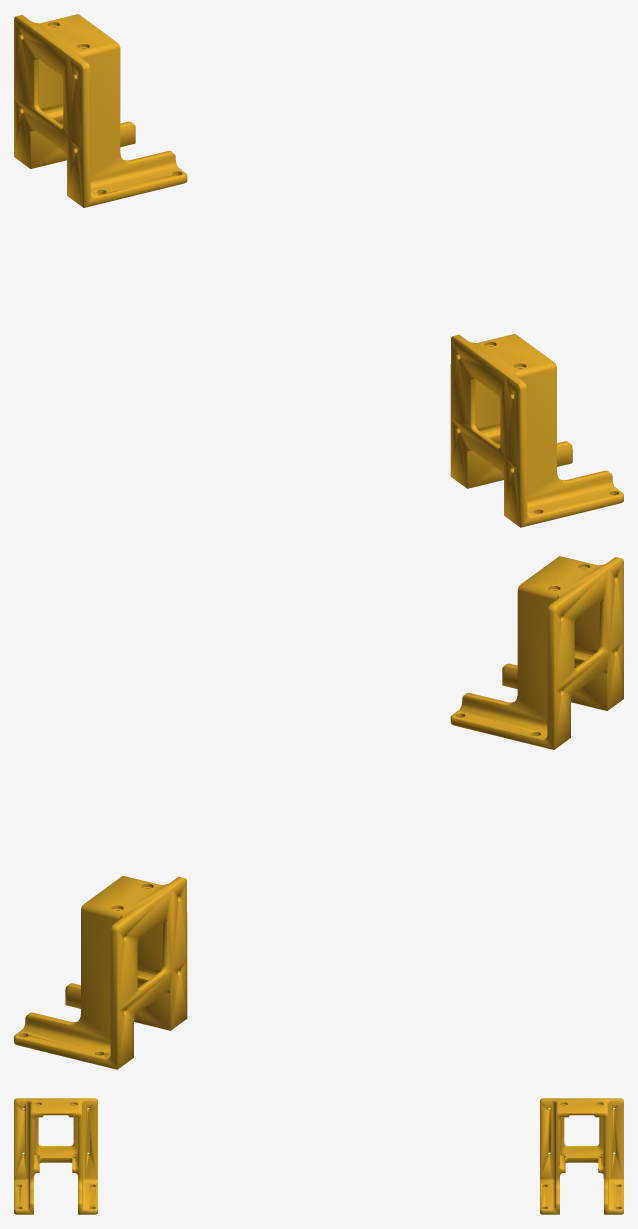
The model's file is lift_carriage_arm.dae.
3 renders of one model, top to bottom at view 1: azimuth 30°, elevation 25°; view 2: azimuth 150°, elevation 25°; view 3: azimuth 270°, elevation 25°, orthographic. The views are drawn at different scales.
Parts seen in each view (by area): view 1: node; view 2: node; view 3: node.
Part boxes in pixels (<box>): node: <box>14,14,623,527</box>; node: <box>14,556,623,1069</box>; node: <box>14,1098,623,1214</box>.
Size of the model in its own units: 0.042 by 0.348 by 0.054.
